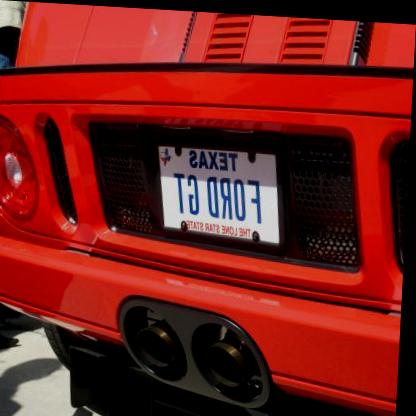License_Plate: (148, 143, 289, 254)
